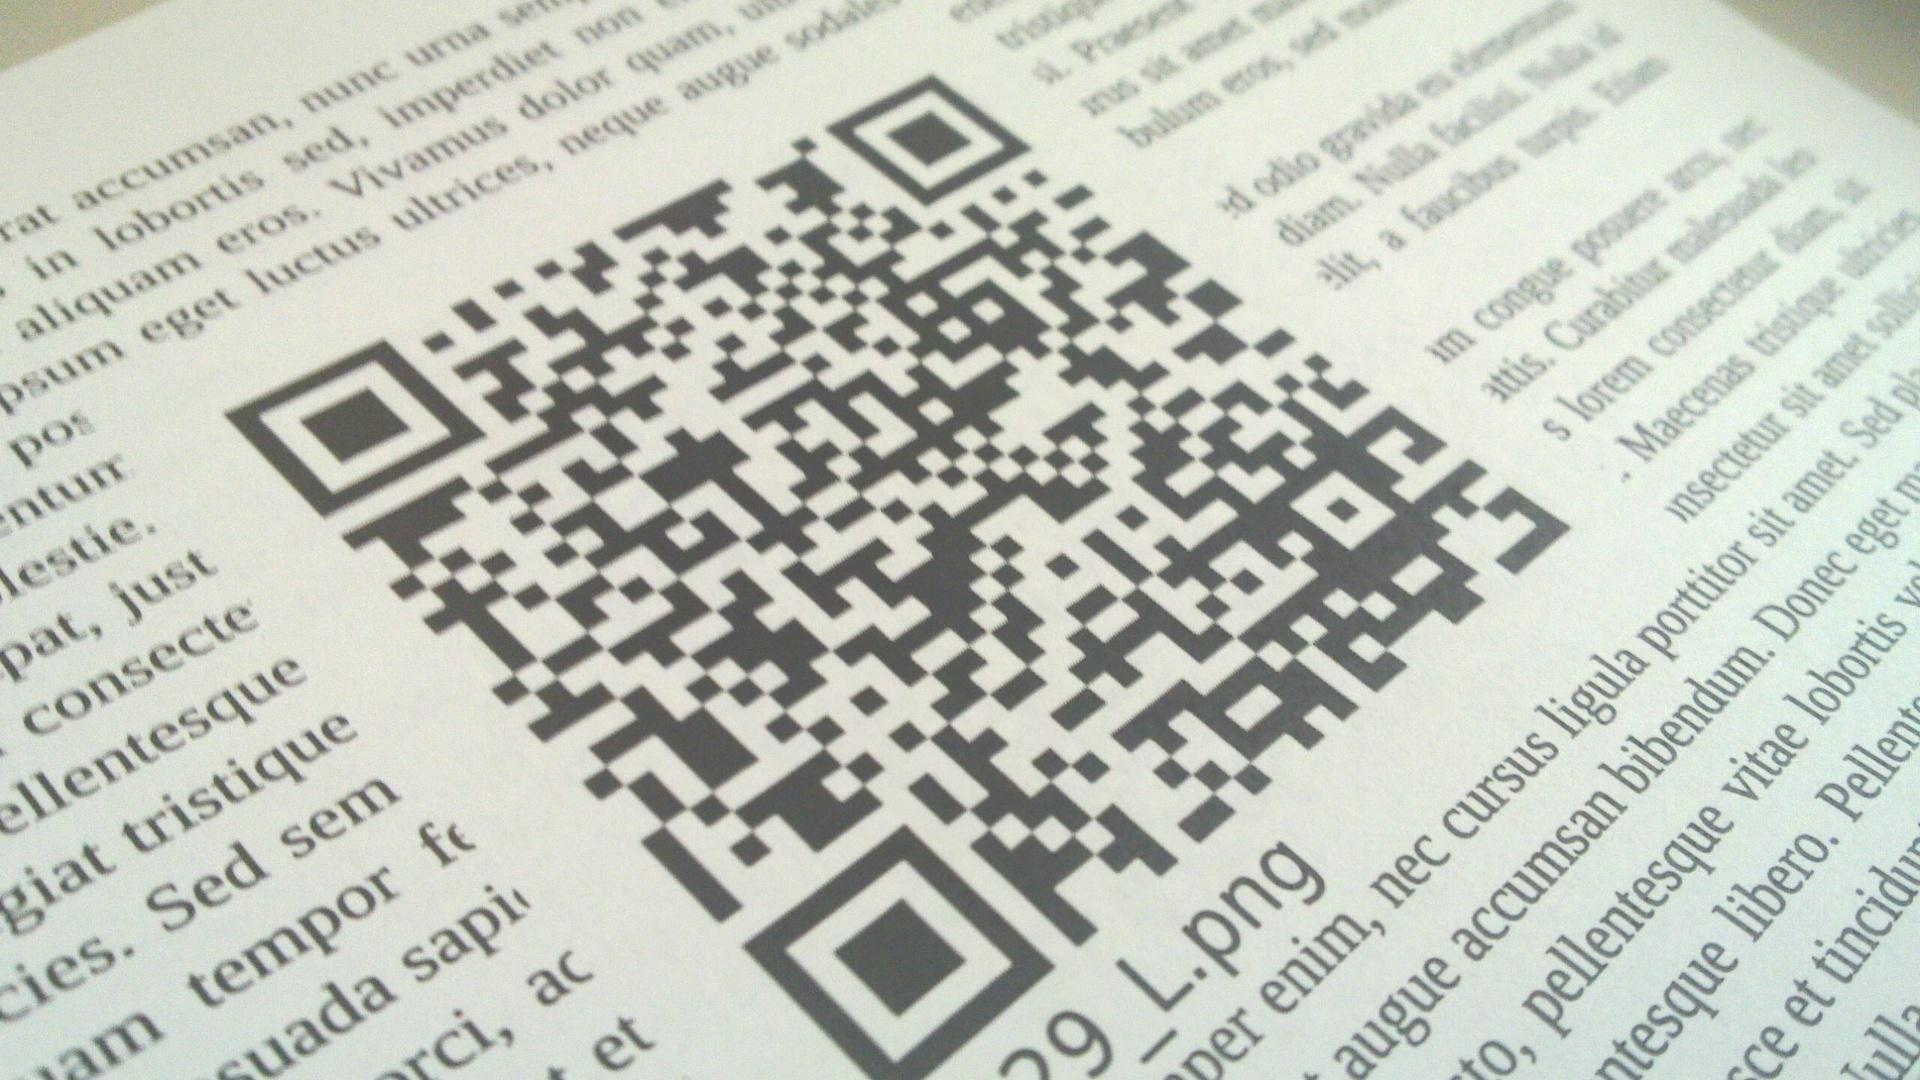qr_code: (224, 74, 1571, 1080)
